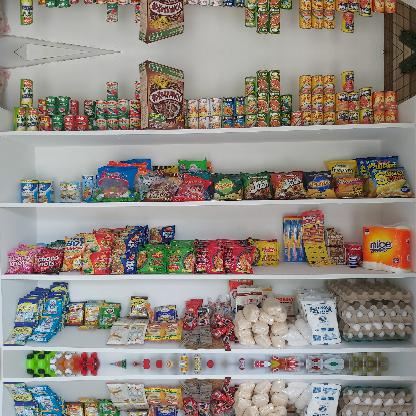Koko-Krunch: (140, 59, 184, 129), (139, 0, 185, 46)
